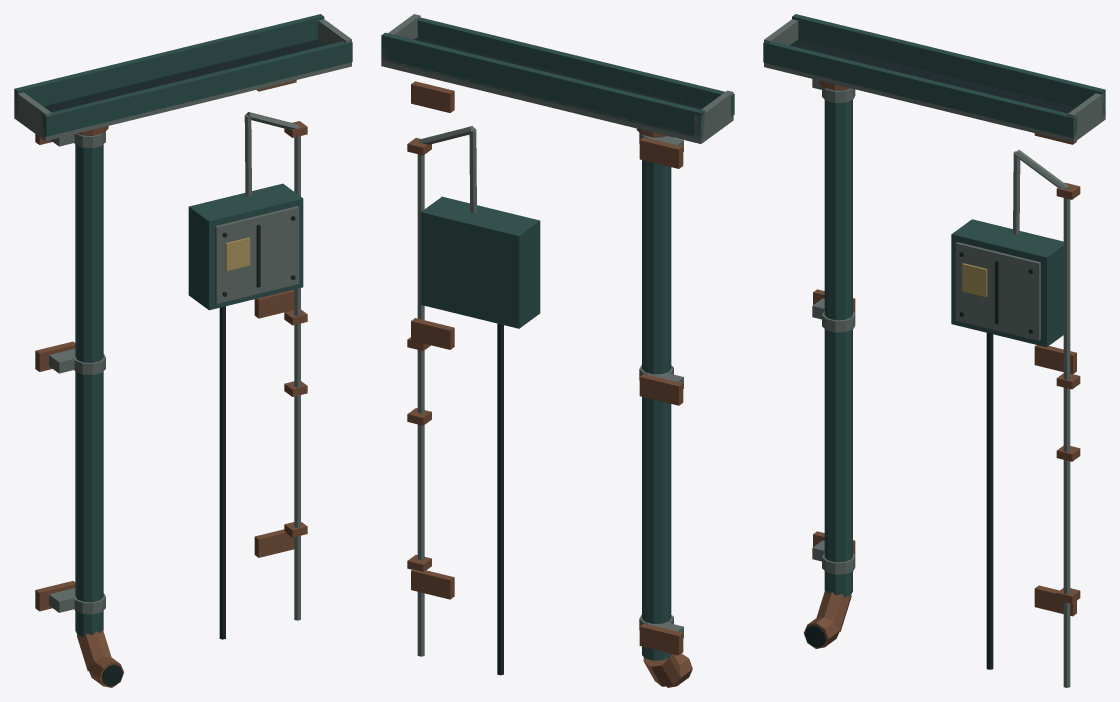
Rendered from v116-yard-wall-services.glb.
3 renders of one model, left to right at view 1: azimuth 30°, elevation 25°; view 2: azimuth 150°, elevation 25°; view 3: azimuth 330°, elevation 25°, orthographic. The views are drawn at different scales.
Visible parts, largest first — view 1: wall-services; view 2: wall-services; view 3: wall-services.
Boxes of the visible parts, x1=… form: wall-services: x1=14, y1=14, x2=352, y2=687; wall-services: x1=381, y1=14, x2=734, y2=687; wall-services: x1=763, y1=14, x2=1105, y2=687.
Bounding box in the file's own units: 1.3 × 2.4 × 0.292.
